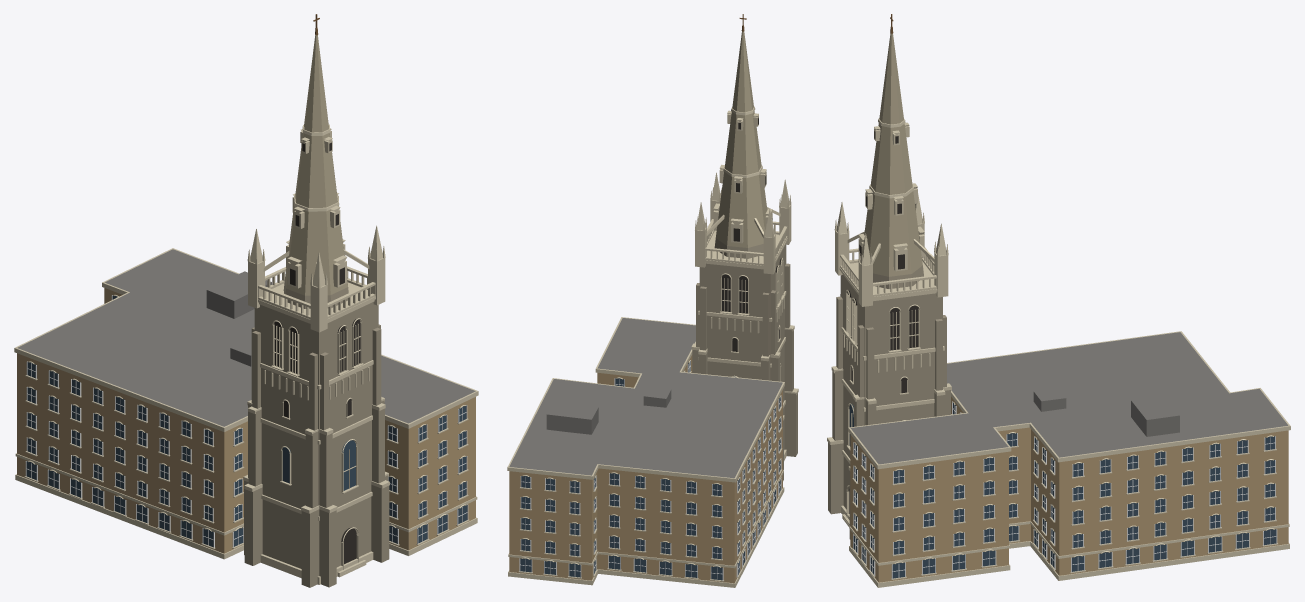
The model's file is christ_church_lancaster_gate.glb.
3 views of the same model, side by side, from view 1: azimuth 30°, elevation 25°; view 2: azimuth 150°, elevation 25°; view 3: azimuth 270°, elevation 25° (orthographic). The views are drawn at different scales.
Size of the model in its own units: 37.26 by 64.28 by 53.34.
